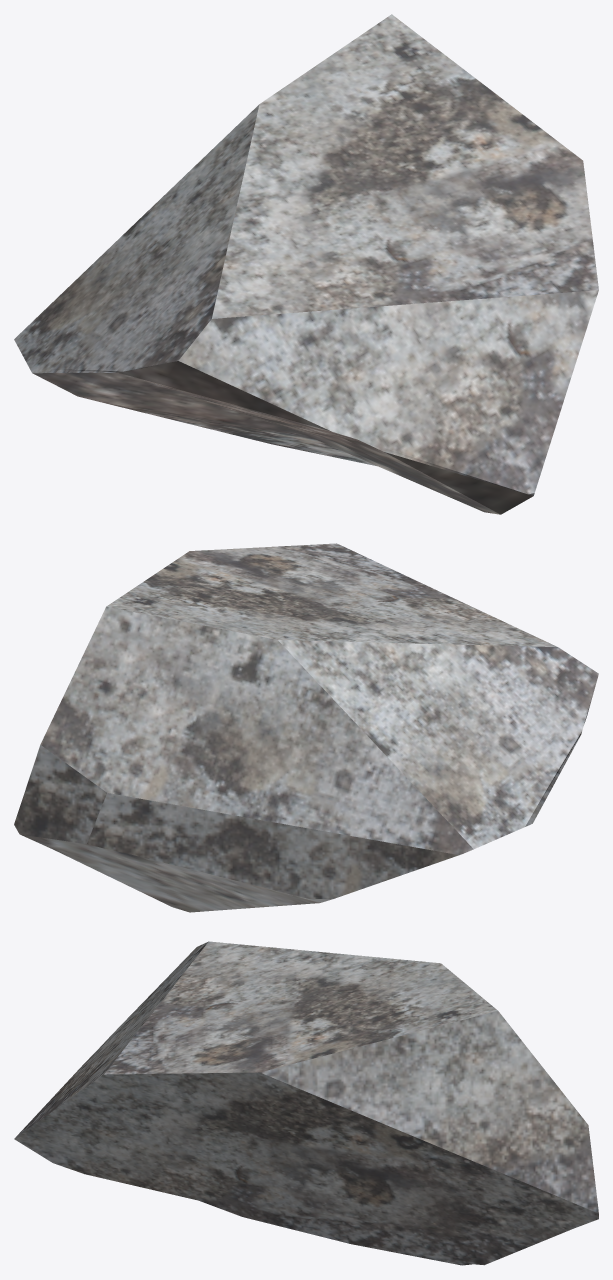
Rendered from Asteroid_Medium_001_02_002_03_002.fbx.
The picture shows the model from 3 angles, top to bottom: view 1: azimuth 30°, elevation 25°; view 2: azimuth 150°, elevation 25°; view 3: azimuth 270°, elevation 25°; orthographic projection. The views are drawn at different scales.
Parts seen in each view (by area): view 1: Asteroid_Medium_001_02_002_03_002; view 2: Asteroid_Medium_001_02_002_03_002; view 3: Asteroid_Medium_001_02_002_03_002.
Boxes of the visible parts, x1,y1,x2,y2 form: Asteroid_Medium_001_02_002_03_002: (14,14,598,514); Asteroid_Medium_001_02_002_03_002: (14,543,598,912); Asteroid_Medium_001_02_002_03_002: (14,941,598,1265).
Size of the model in its own units: 10.05 by 7 by 12.93.
